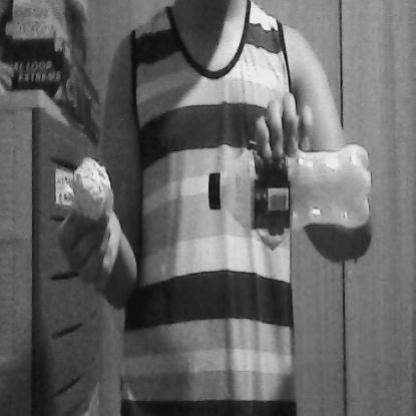Plastic Bottle: (204, 138, 379, 250)
